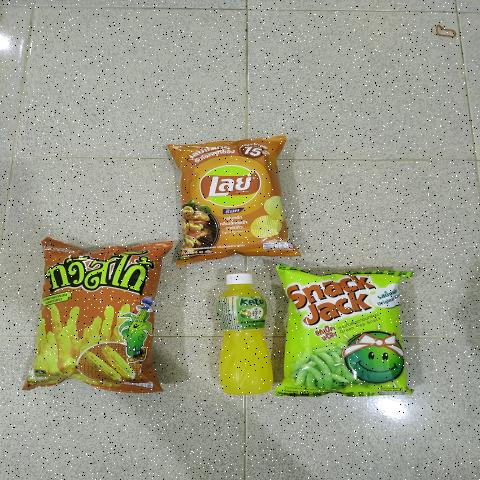snack_jack: (296, 279, 398, 382)
twisco: (53, 256, 140, 383)
